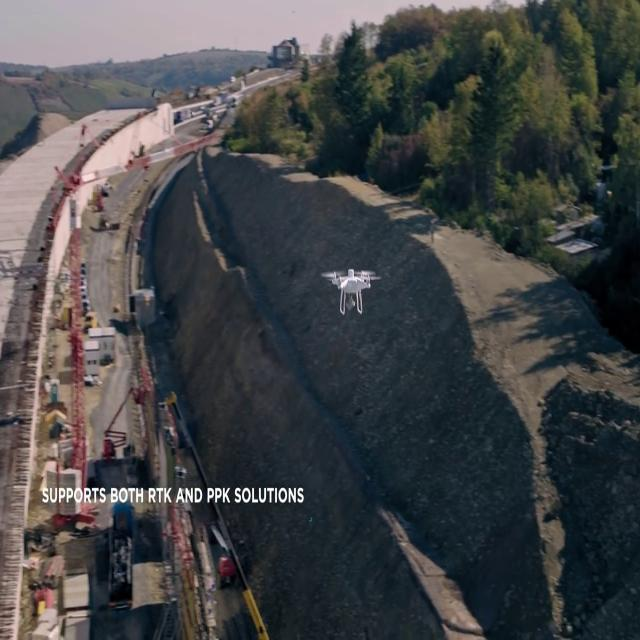drone: (320, 266, 382, 317)
